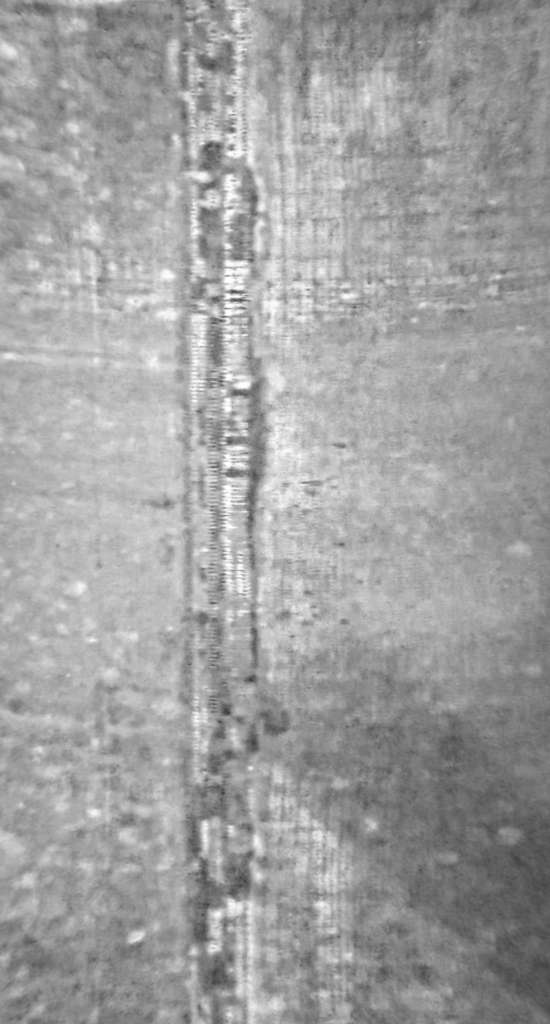splice: (163, 4, 273, 1024)
